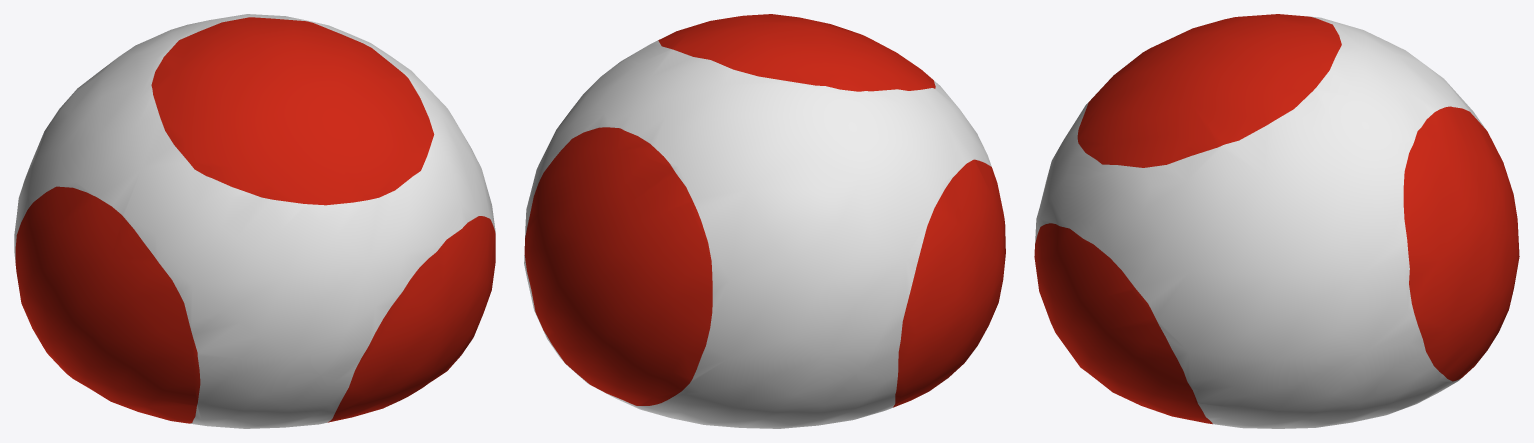
The model's file is ShroomHat.fbx.
3 views of the same model, side by side, from view 1: azimuth 30°, elevation 25°; view 2: azimuth 150°, elevation 25°; view 3: azimuth 270°, elevation 25° (orthographic).
Parts seen in each view (by area): view 1: m_MushroomHat01; view 2: m_MushroomHat01; view 3: m_MushroomHat01.
Boxes of the visible parts, bbox=[...] form: m_MushroomHat01: bbox=[14, 14, 495, 428]; m_MushroomHat01: bbox=[524, 14, 1005, 428]; m_MushroomHat01: bbox=[1034, 14, 1519, 428].
Bounding box in the file's own units: 627 × 456 × 627.
